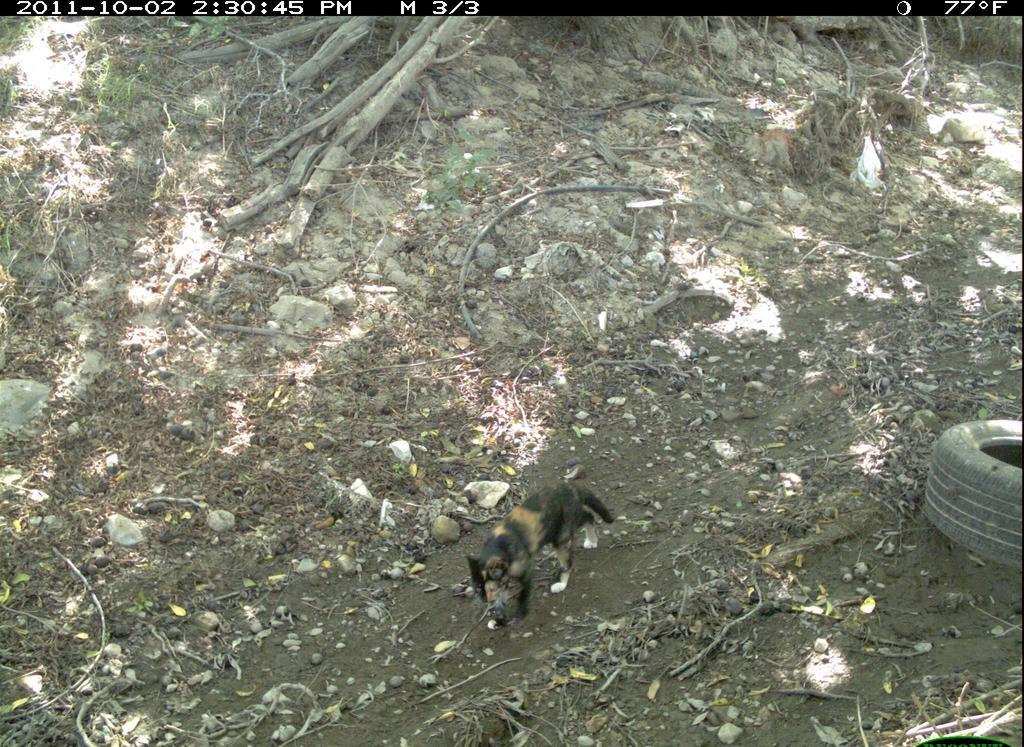cat: (461, 477, 623, 633)
